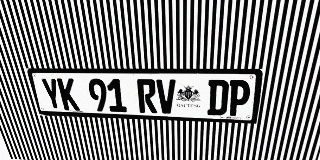1: (105, 79, 127, 112)
9: (87, 78, 109, 112)
D: (207, 80, 229, 116)
K: (57, 78, 80, 111)
P: (227, 80, 252, 116)
R: (137, 79, 157, 113)
V: (156, 79, 176, 114)
Y: (40, 78, 64, 110)
